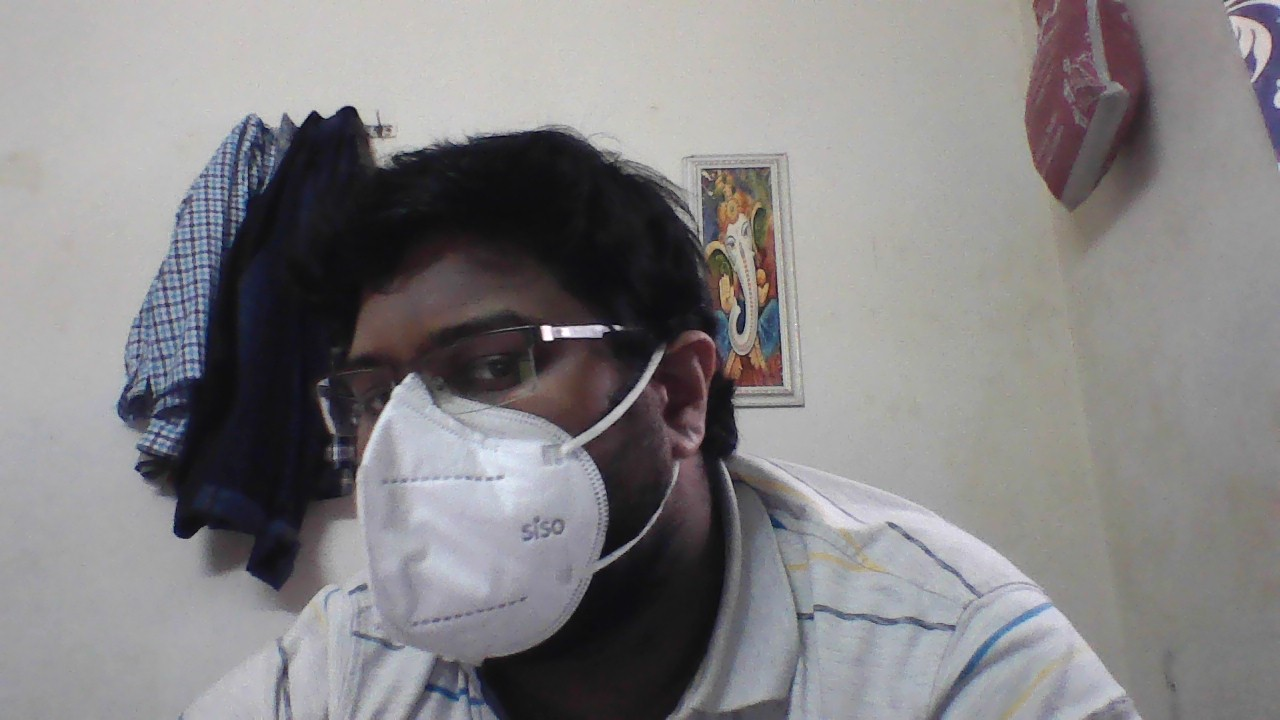Mask: (352, 380, 709, 630)
